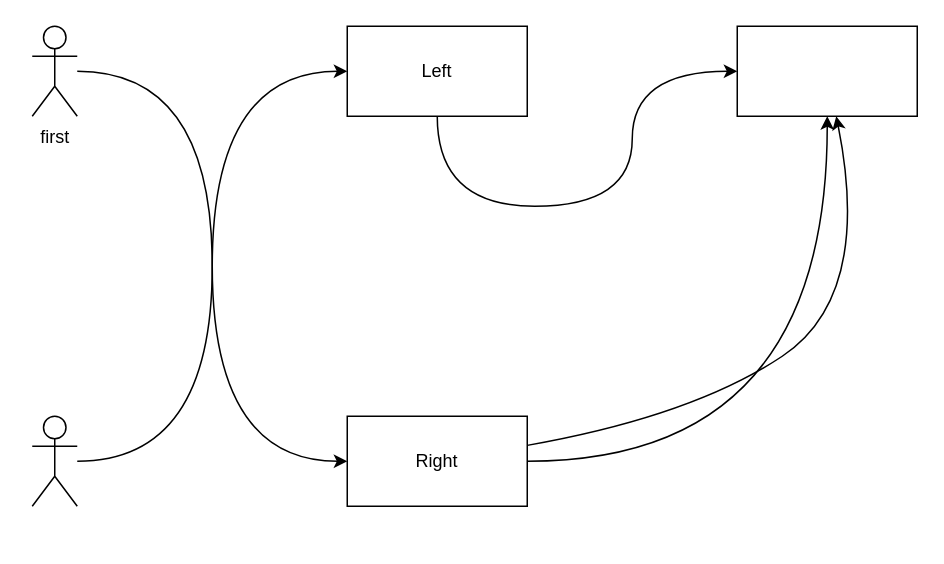
Some shapes in this 944 by 564 pixel diagram are drawn without their labels. Each missing label, with the centre of its shape:
Far: point (826, 70)
second: point (54, 460)
